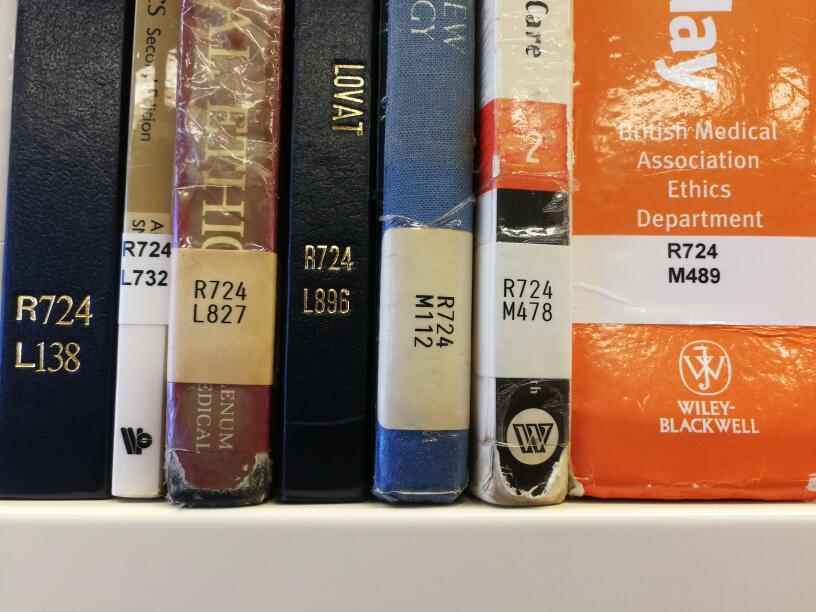booklabel: (14, 293, 97, 376), (301, 243, 355, 317), (191, 276, 247, 326), (412, 291, 456, 349), (121, 239, 171, 288), (667, 241, 722, 284), (503, 277, 553, 321)
